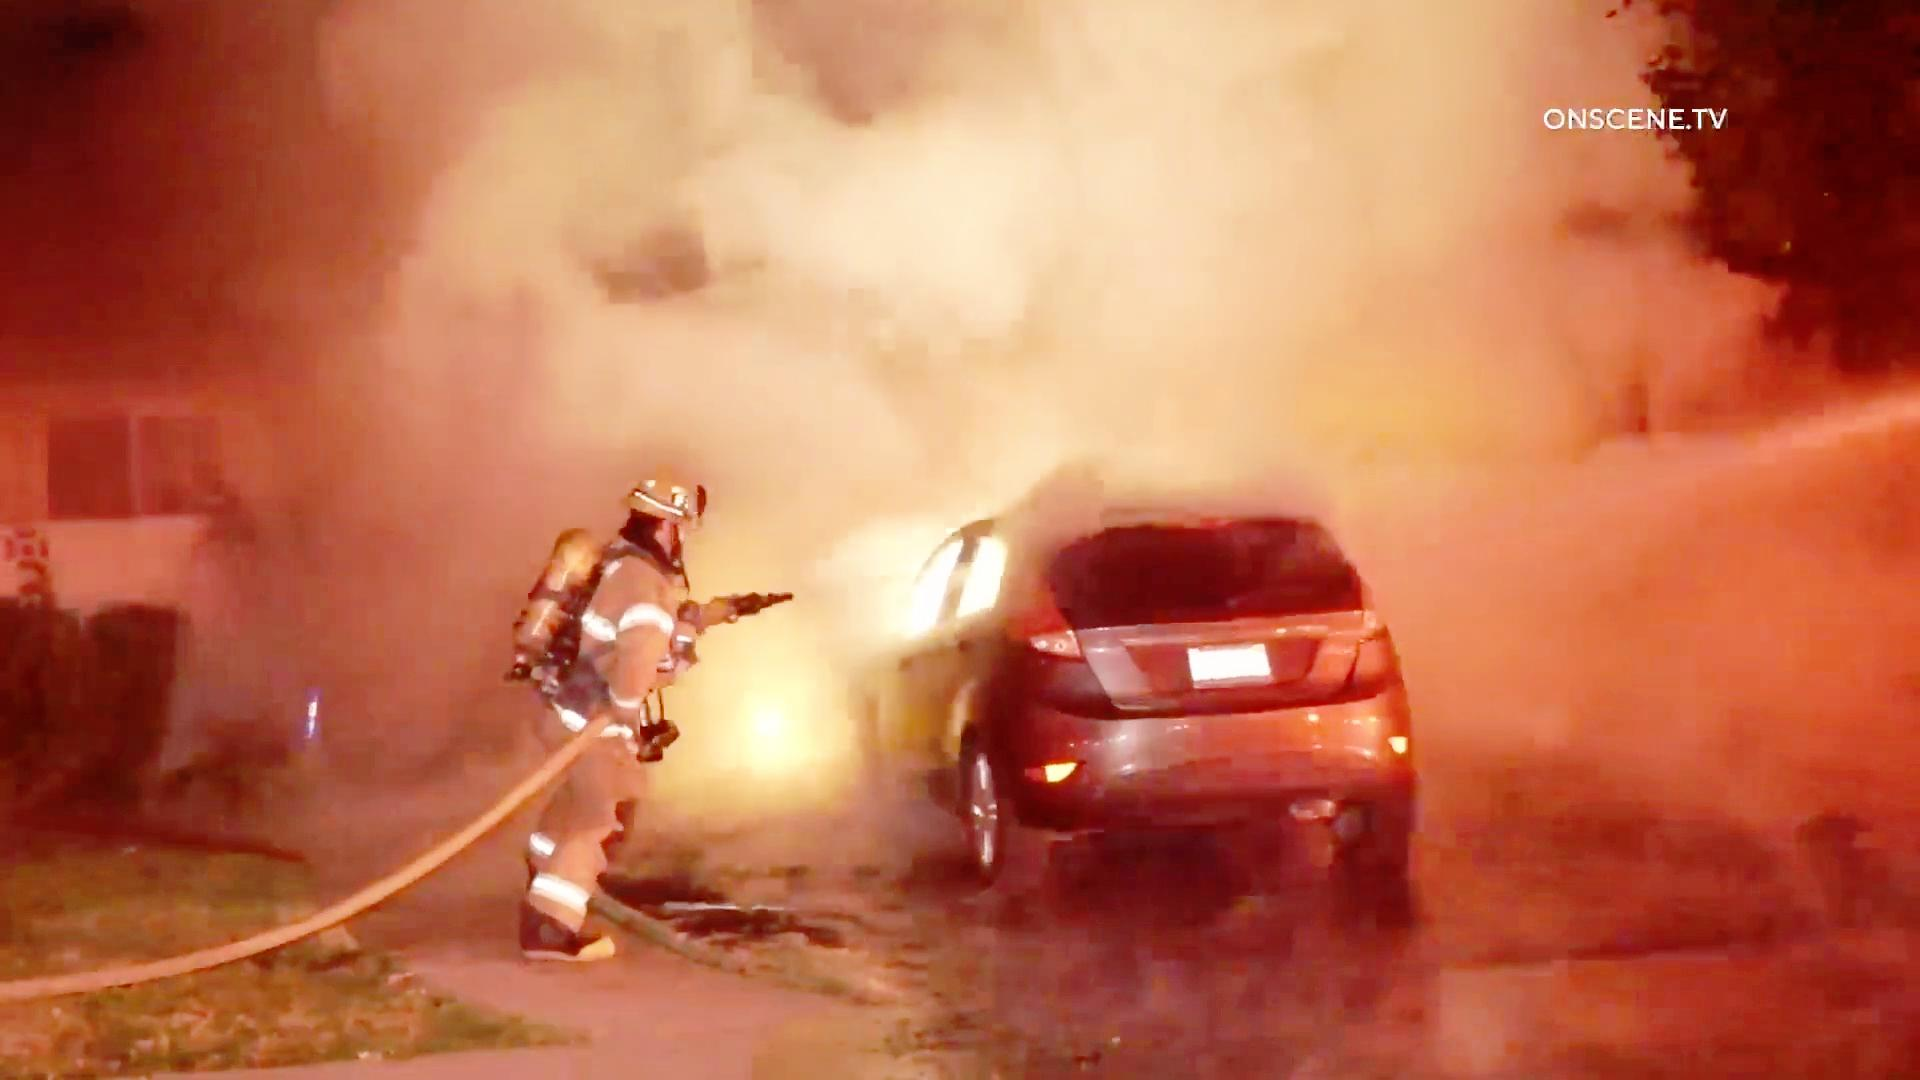fire: (811, 388, 982, 653), (738, 675, 822, 785)
smoke: (11, 5, 1473, 417), (1348, 371, 1920, 1060), (243, 433, 465, 847)
